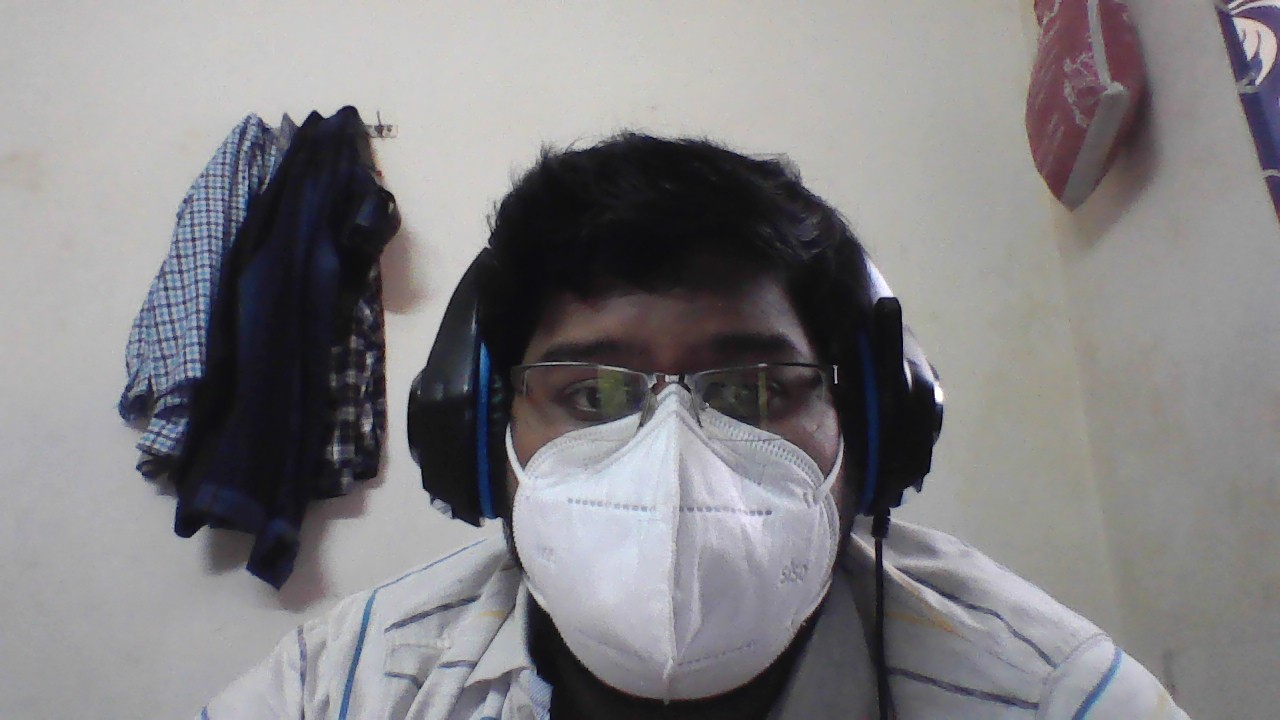Mask: (499, 422, 862, 645)
